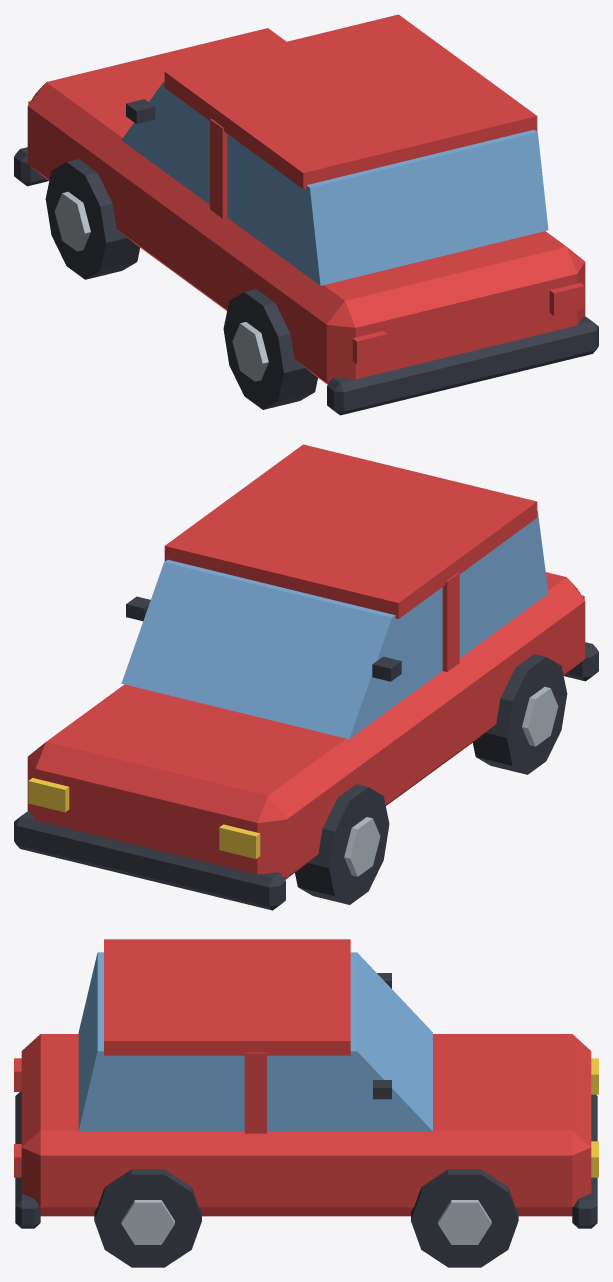
File: veiculos-carro.glb
The picture shows the model from 3 angles, top to bottom: view 1: azimuth 30°, elevation 25°; view 2: azimuth 150°, elevation 25°; view 3: azimuth 270°, elevation 25°; orthographic projection. The views are drawn at different scales.
Parts seen in each view (by area): view 1: corpo; view 2: corpo; view 3: corpo.
Part boxes in pixels (x1,y1,x2,y2): corpo: (14, 14, 598, 415); corpo: (14, 444, 598, 910); corpo: (14, 939, 598, 1267).
Bounding box in the file's own units: 0.48 × 0.3758 × 0.924.
